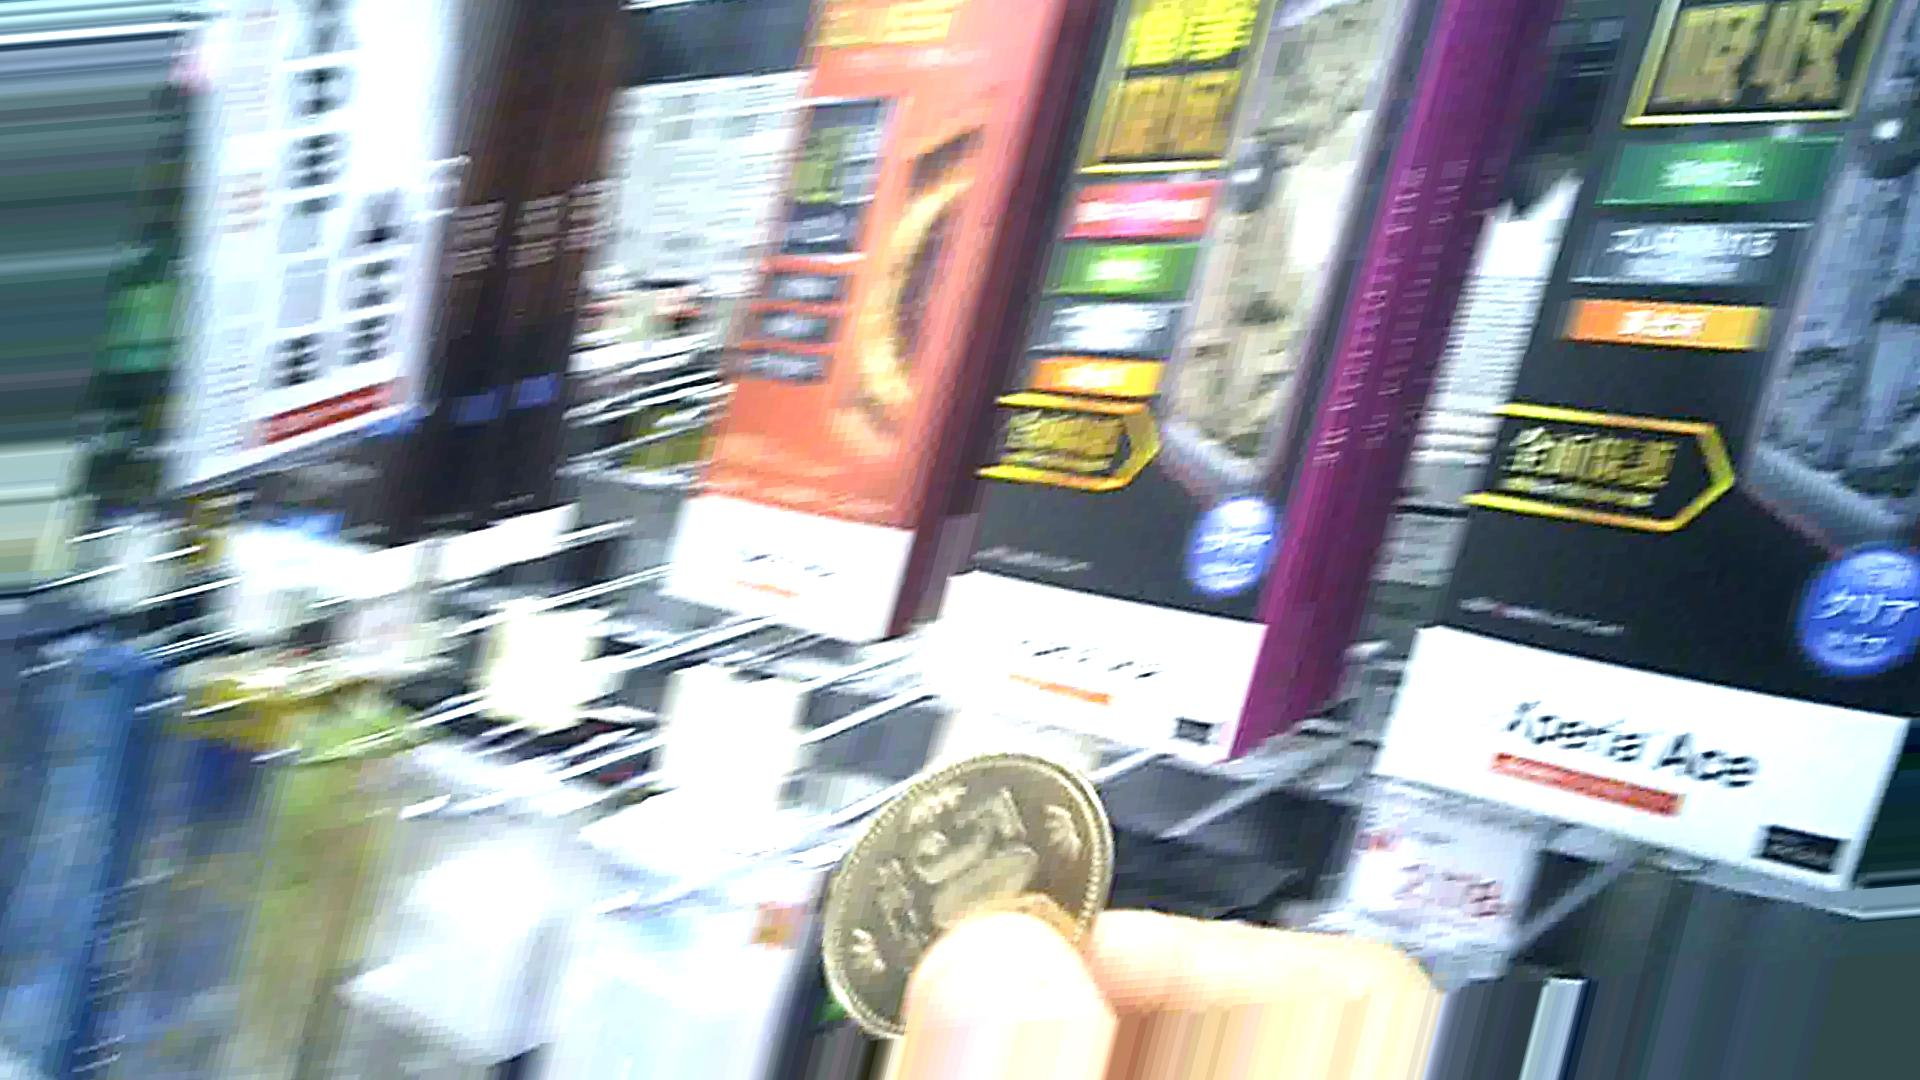500 Yen: (833, 740, 1131, 1029)
